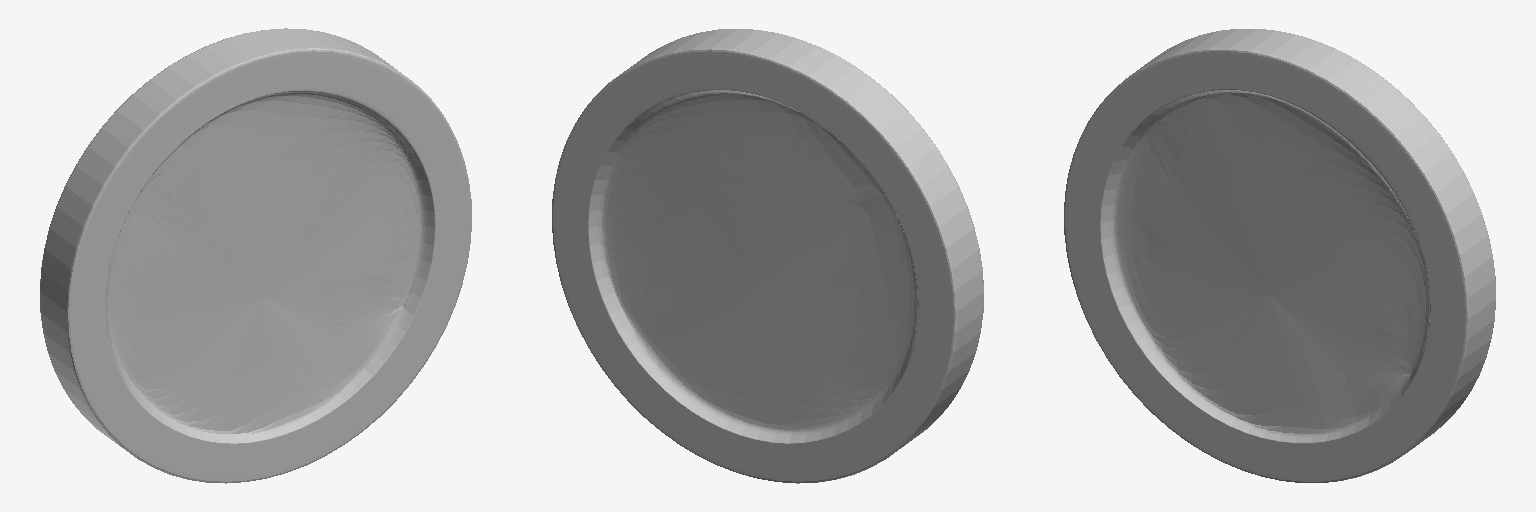
File: coin.obj
3 renders of one model, left to right at view 1: azimuth 30°, elevation 25°; view 2: azimuth 150°, elevation 25°; view 3: azimuth 330°, elevation 25°, orthographic.
Parts seen in each view (by area): view 1: Plane; view 2: Plane; view 3: Plane.
Part boxes in pixels (bbox=[...]): Plane: bbox=[40, 28, 471, 483]; Plane: bbox=[552, 29, 983, 483]; Plane: bbox=[1064, 29, 1495, 482].
Size of the model in its own units: 2.52 by 2.52 by 0.3145.